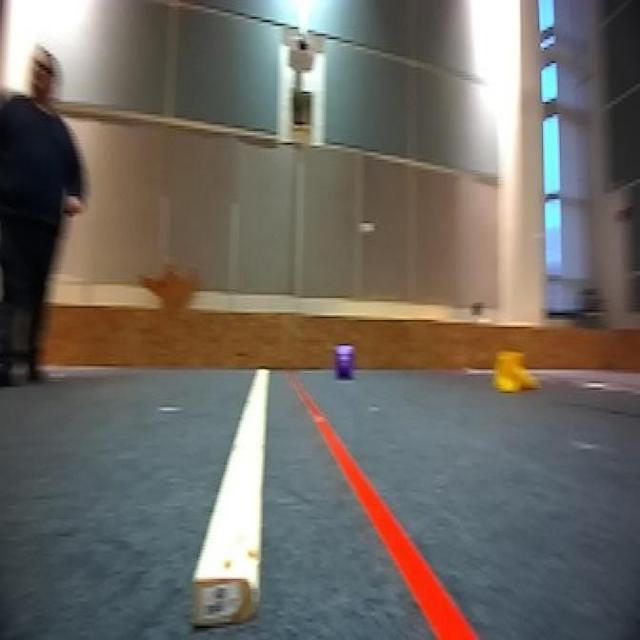frc_cone: (491, 344, 539, 398)
frc_cube: (333, 342, 357, 380)
